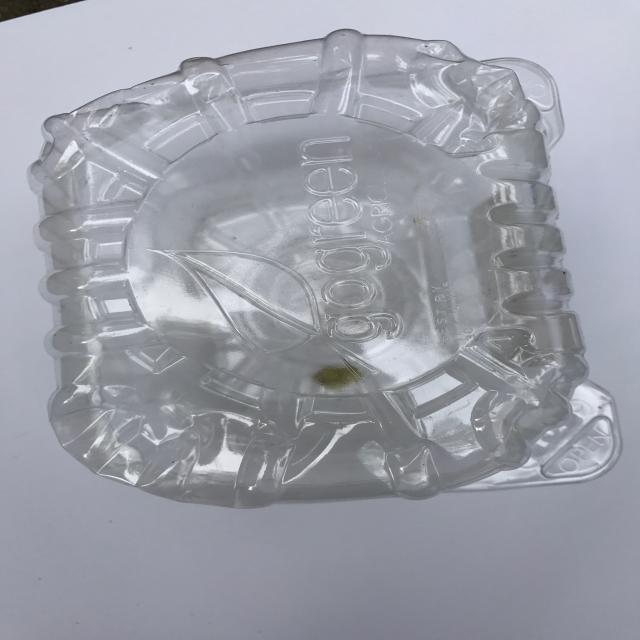plastic: (27, 28, 622, 509)
